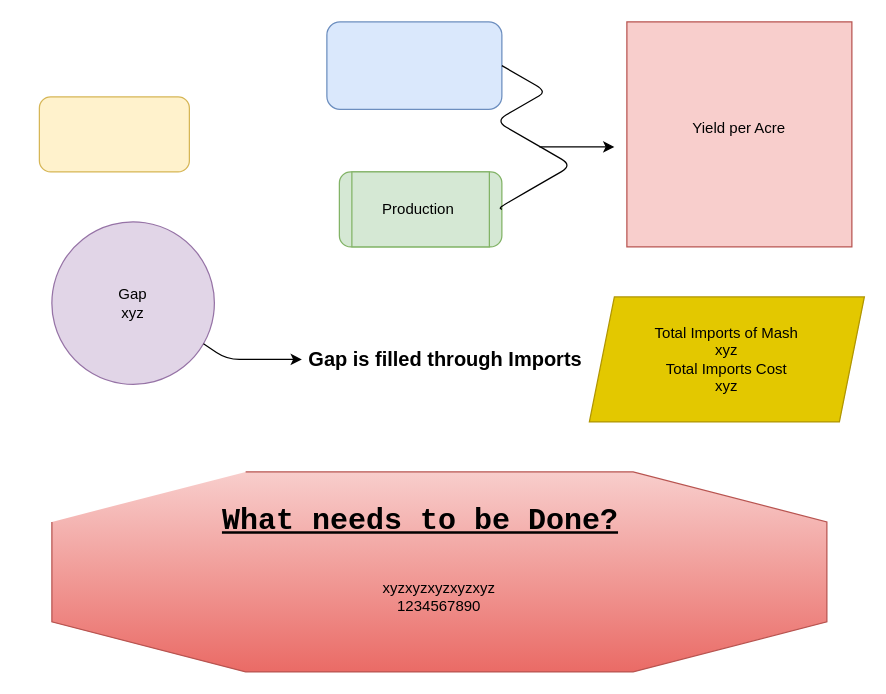
This 886x694 diagram has some shape labels left out. The shapes that lost their labels are listed below. From the top down, each one's centre as x and y in pixels, then its label:
the point at 414,65: Area of Cultivation xyz
the point at 113,134: Consumption xyz
